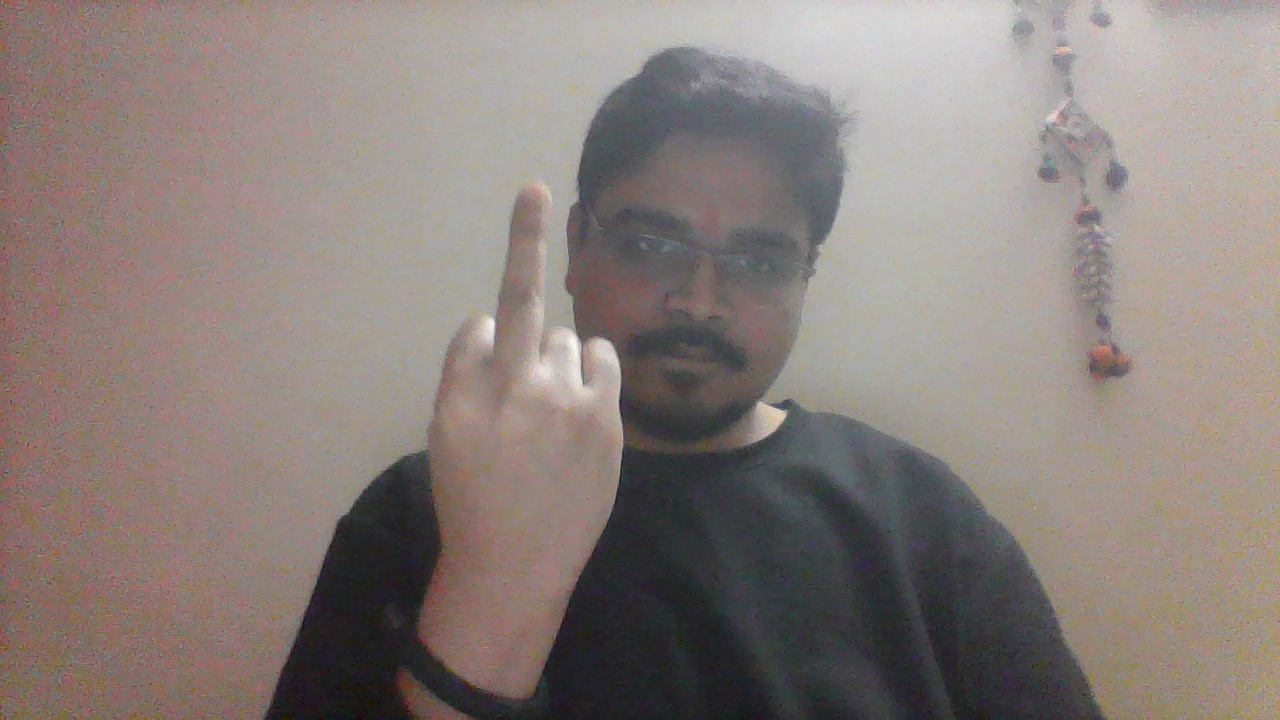Fuck Off: (421, 184, 629, 645)
